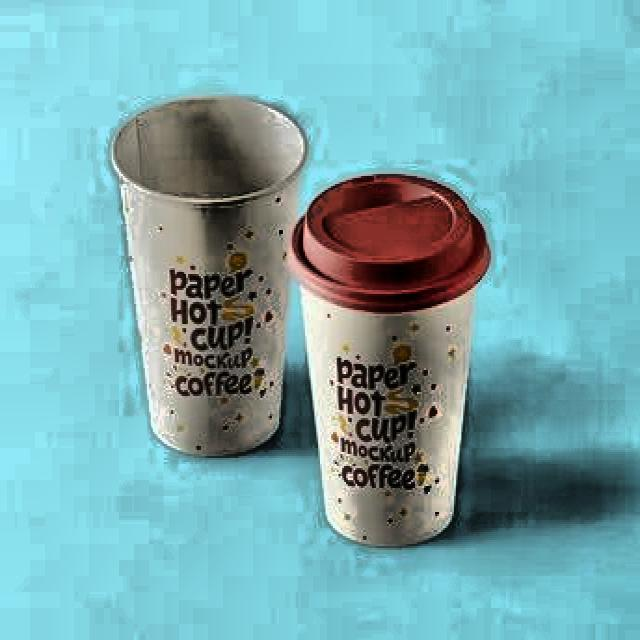Cup: (118, 90, 300, 482), (311, 162, 484, 562)
